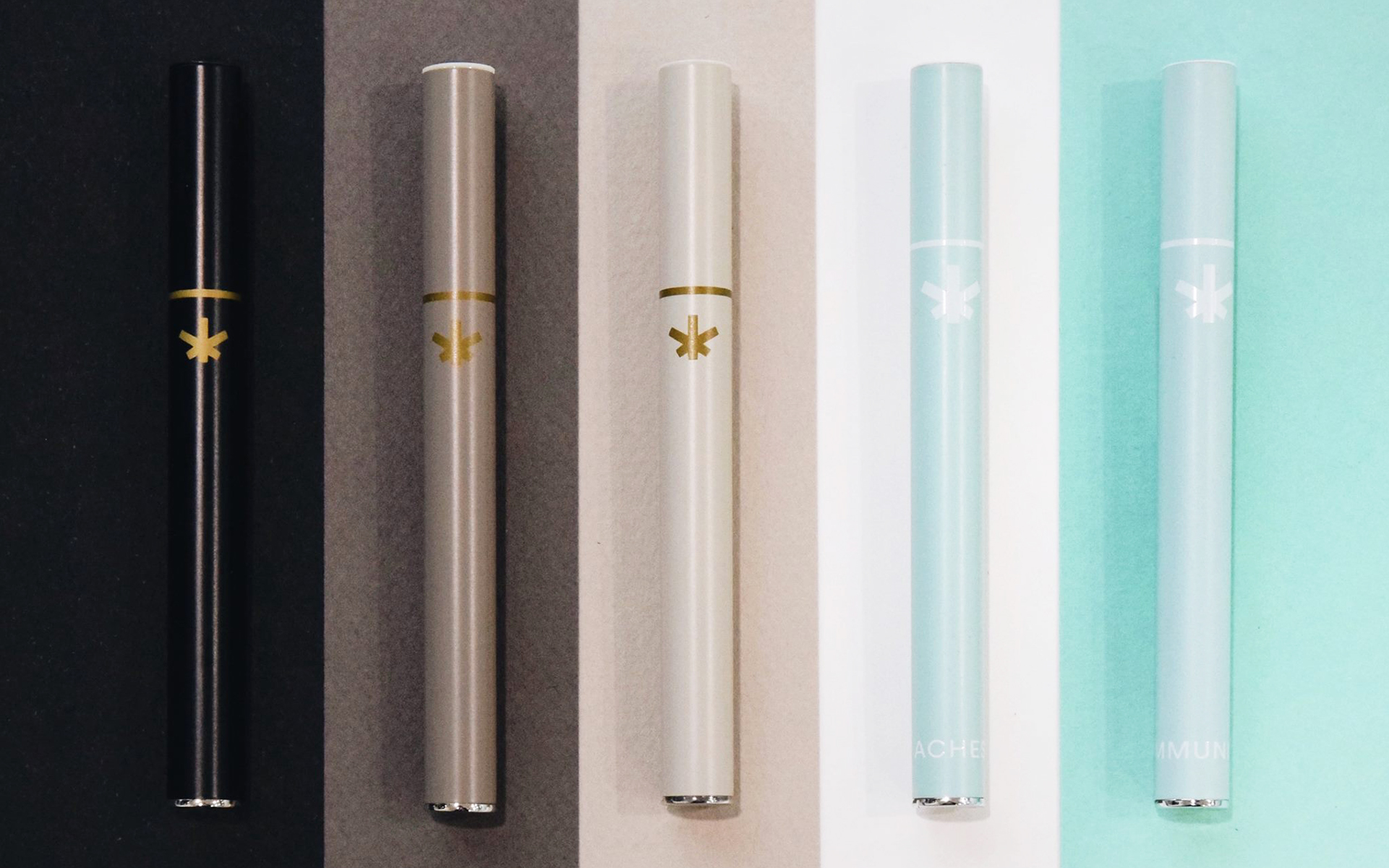weed_pen: (664, 256, 907, 661)
